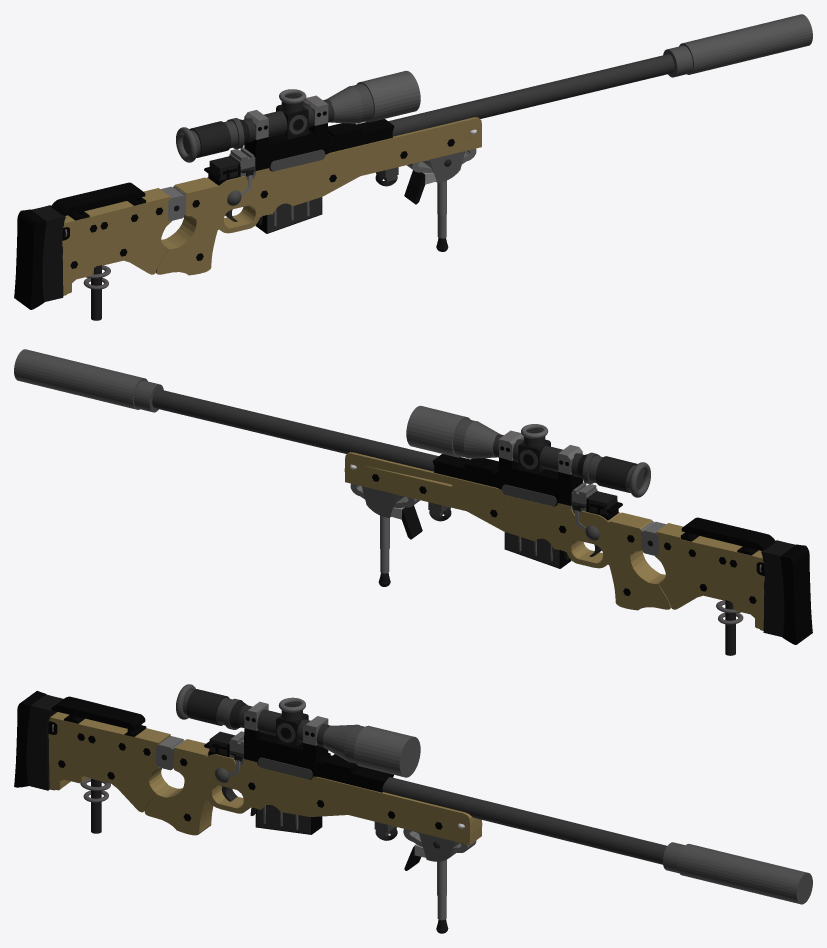
The model's file is awm.glb.
3 views of the same model, one above another, from view 1: azimuth 30°, elevation 25°; view 2: azimuth 150°, elevation 25°; view 3: azimuth 330°, elevation 25° (orthographic).
Parts seen in each view (by area): view 1: Cube.006, Cube.002, Cylinder.023, Cylinder.025, Cube, Cylinder.029, Cube.034, Cube.001, Cube.003, Cube.037, Cylinder.027, Cube.009 (+6 smaller); view 2: Cube.006, Cube.002, Cylinder.023, Cylinder.025, Cube, Cylinder.029, Cube.034, Cube.001, Cube.003, Cube.037, Cylinder.027, Cube.009 (+6 smaller); view 3: Cube.006, Cube.002, Cylinder.023, Cylinder.025, Cylinder.029, Cube.001, Cube.034, Cube.003, Cube.037, Cube, Cube.009, Cylinder.035 (+6 smaller).
Boxes of the visible parts, x1=… form: Cube.006: x1=155, y1=117, x2=481, y2=275; Cube.002: x1=62, y1=188, x2=171, y2=295; Cylinder.023: x1=388, y1=54, x2=674, y2=136; Cylinder.025: x1=679, y1=14, x2=812, y2=74; Cube: x1=14, y1=209, x2=46, y2=309; Cylinder.029: x1=356, y1=70, x2=420, y2=122; Cube.034: x1=244, y1=123, x2=328, y2=171; Cube.001: x1=31, y1=205, x2=65, y2=301; Cube.003: x1=51, y1=182, x2=145, y2=220; Cube.037: x1=328, y1=119, x2=394, y2=153; Cylinder.027: x1=327, y1=86, x2=363, y2=123; Cube.009: x1=267, y1=197, x2=321, y2=232; Cube.006: x1=344, y1=452, x2=671, y2=610; Cube.002: x1=655, y1=523, x2=764, y2=630; Cylinder.023: x1=152, y1=389, x2=438, y2=471; Cylinder.025: x1=14, y1=349, x2=147, y2=409; Cube: x1=780, y1=544, x2=812, y2=644; Cylinder.029: x1=406, y1=405, x2=470, y2=457; Cube.034: x1=498, y1=457, x2=582, y2=506; Cube.001: x1=761, y1=540, x2=795, y2=636; Cube.003: x1=680, y1=517, x2=775, y2=555; Cube.037: x1=432, y1=454, x2=498, y2=488; Cylinder.027: x1=463, y1=421, x2=499, y2=458; Cube.009: x1=505, y1=532, x2=559, y2=567; Cube.006: x1=144, y1=739, x2=482, y2=844; Cube.002: x1=48, y1=712, x2=170, y2=812; Cylinder.023: x1=382, y1=777, x2=667, y2=864; Cylinder.025: x1=677, y1=844, x2=812, y2=904; Cylinder.029: x1=354, y1=725, x2=420, y2=777; Cube.001: x1=26, y1=694, x2=63, y2=790; Cube.034: x1=244, y1=728, x2=328, y2=779; Cube.003: x1=51, y1=696, x2=146, y2=736; Cube.037: x1=317, y1=753, x2=393, y2=792; Cube: x1=14, y1=690, x2=46, y2=787; Cube.009: x1=256, y1=805, x2=310, y2=833; Cylinder.035: x1=186, y1=689, x2=229, y2=725.
Size of the model in its own units: 5 by 1.18 by 0.232.
